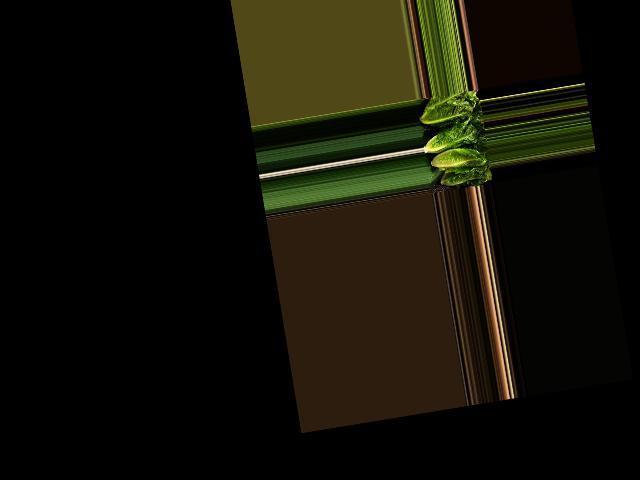lettuce: (440, 164, 492, 187)
